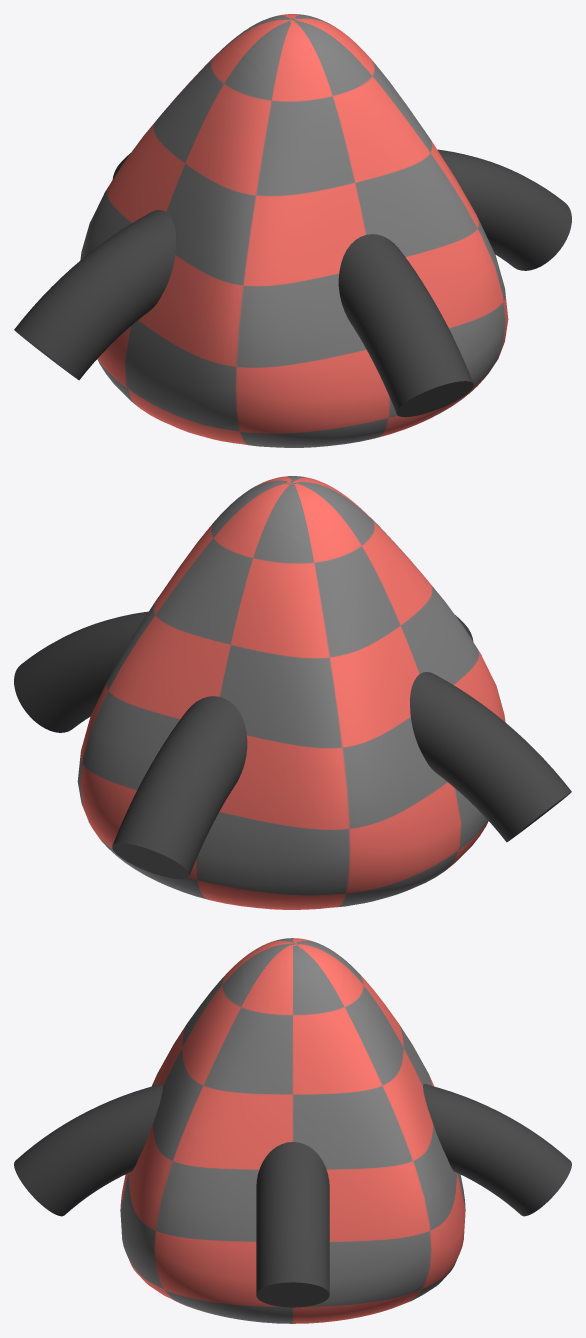
The model's file is Body(Pyramidal)+Colour(More_Red)+Pattern(Checkered)+Arm_Angle(Bent_Down).fbx.
3 views of the same model, one above another, from view 1: azimuth 30°, elevation 25°; view 2: azimuth 150°, elevation 25°; view 3: azimuth 270°, elevation 25° (orthographic). The views are drawn at different scales.
Parts seen in each view (by area): view 1: Body(Pyramidal)+Colour(More_Red)+Pattern(Checkered)+Arm_Angl (×4); view 2: Body(Pyramidal)+Colour(More_Red)+Pattern(Checkered)+Arm_Angl (×4); view 3: Body(Pyramidal)+Colour(More_Red)+Pattern(Checkered)+Arm_Angl (×4).
Boxes of the visible parts, <box> form: Body(Pyramidal)+Colour(More_Red)+Pattern(Checkered)+Arm_Angl (×4): <box>14,14,571,447</box>; Body(Pyramidal)+Colour(More_Red)+Pattern(Checkered)+Arm_Angl (×4): <box>14,476,571,909</box>; Body(Pyramidal)+Colour(More_Red)+Pattern(Checkered)+Arm_Angl (×4): <box>14,938,571,1323</box>.
Size of the model in its own units: 60.67 by 40 by 60.67.
2 materials, 2 textured.
